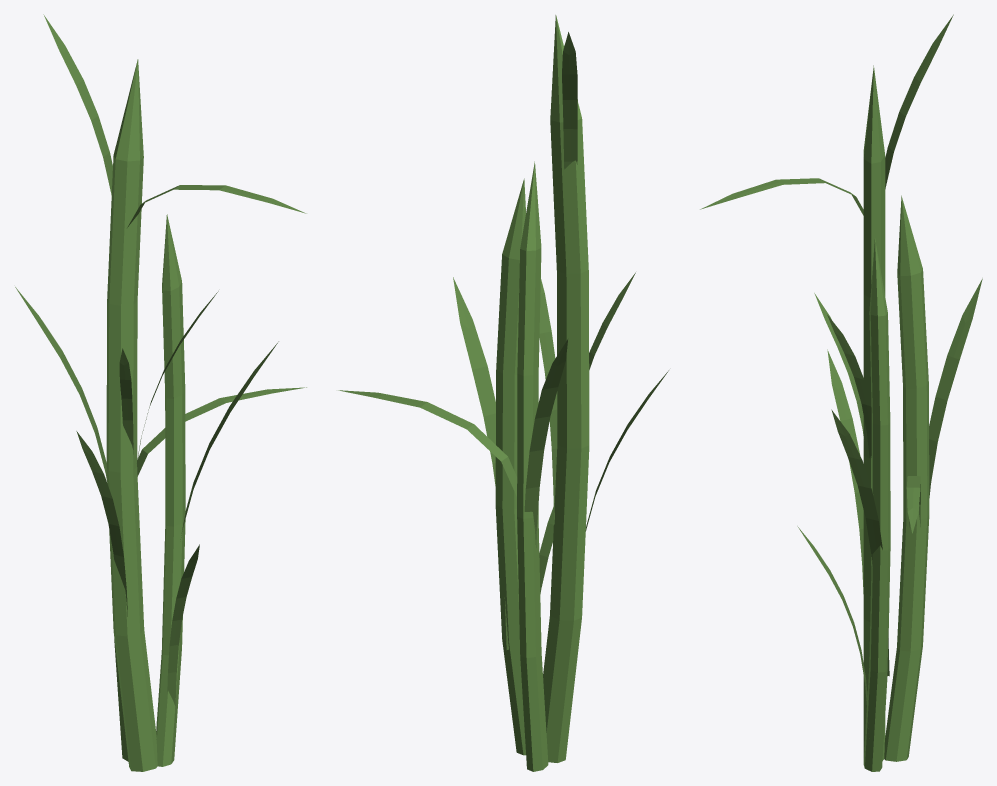
File: Rice Bigger Tonkhla.glb
The picture shows the model from 3 angles, left to right: view 1: azimuth 30°, elevation 25°; view 2: azimuth 150°, elevation 25°; view 3: azimuth 270°, elevation 25°; orthographic projection. The views are drawn at different scales.
Parts seen in each view (by area): view 1: Plane.017; view 2: Plane.017; view 3: Plane.017.
Part boxes in pixels (box(x1,y1,x2,y2)): Plane.017: box(15, 14, 306, 771); Plane.017: box(338, 15, 668, 771); Plane.017: box(700, 14, 982, 771).
Size of the model in its own units: 0.2567 by 0.657 by 0.236.
